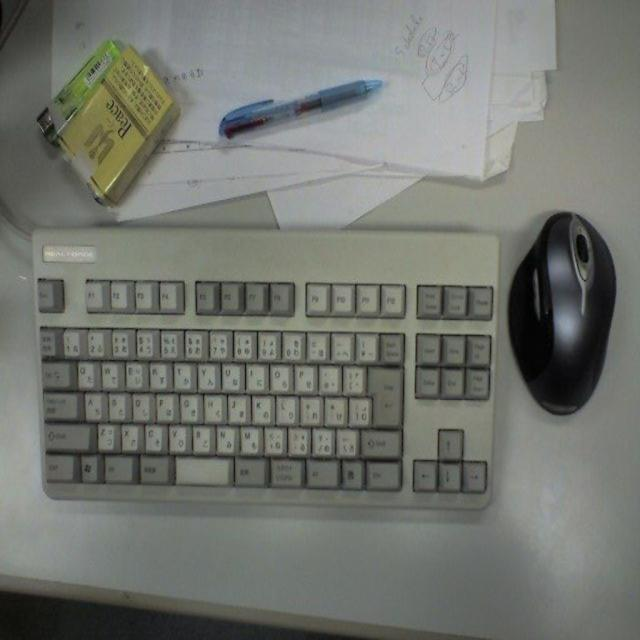Computer-mouse: (505, 208, 620, 416)
